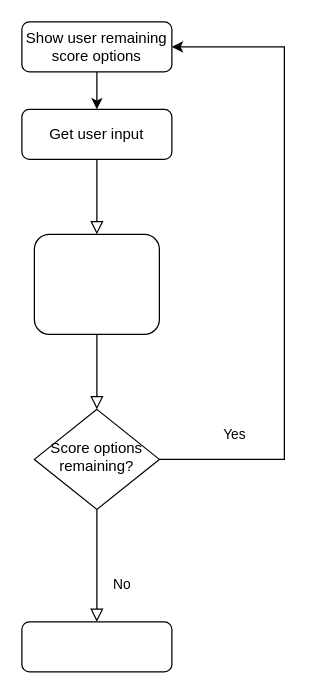
This 316x694 diagram has some shape labels left out. The centre of each missing label's shape, as x and y in pixels:
"Calculate total score" belongs at (96,646).
"Do method to apply score based on input" belongs at (96,283).
